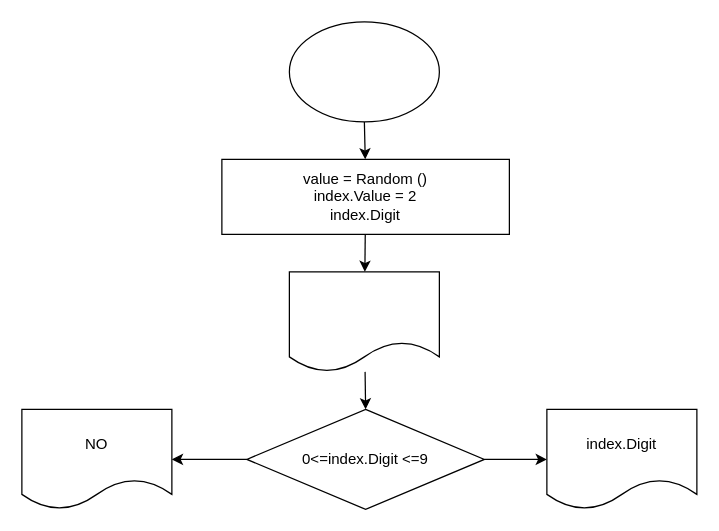
The diagram is 719 pixels wide and 531 high, and some of its shapes have lost their labels. The shapes that lost their labels are listed below. From the top down, each one's centre as x and y in pixels, then its label:
At point 363,71: "START".
At point 363,321: "value".
